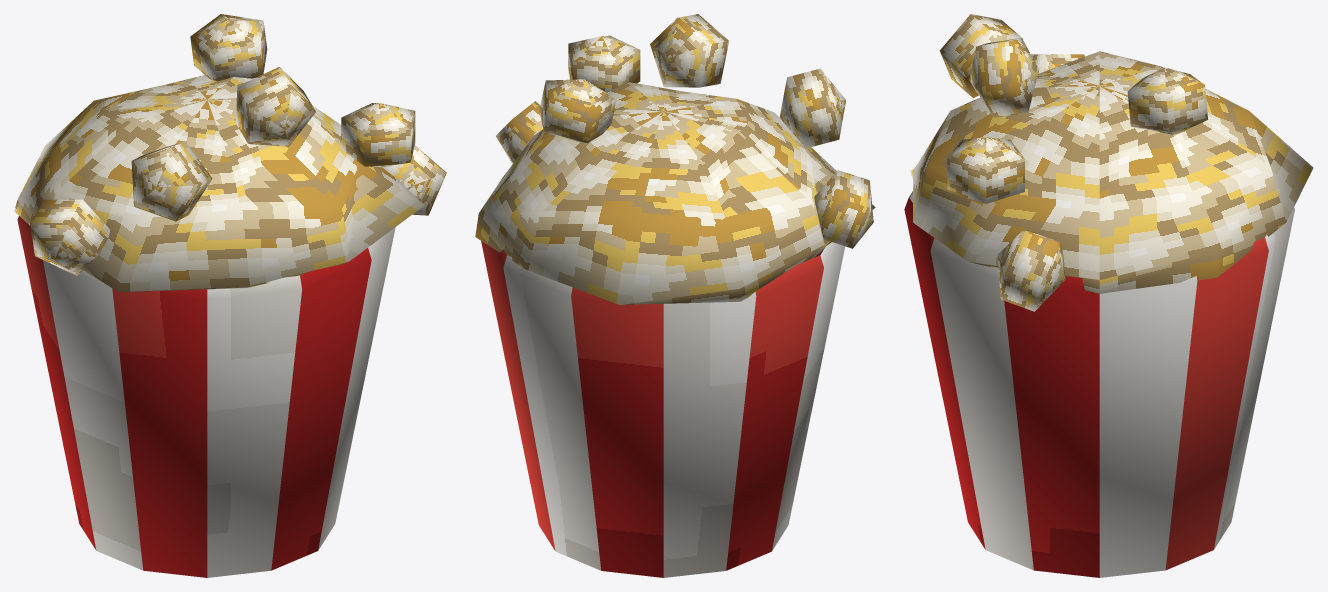
Rendered from food3-popcornBucket.glb.
3 views of the same model, side by side, from view 1: azimuth 30°, elevation 25°; view 2: azimuth 150°, elevation 25°; view 3: azimuth 270°, elevation 25° (orthographic). The views are drawn at different scales.
Parts seen in each view (by area): view 1: food3.popcornBucket; view 2: food3.popcornBucket; view 3: food3.popcornBucket.
Boxes of the visible parts, left/top/right/bottom form: food3.popcornBucket: left=14, top=14, right=446, bottom=577; food3.popcornBucket: left=475, top=14, right=875, bottom=577; food3.popcornBucket: left=904, top=14, right=1313, bottom=577.
Size of the model in its own units: 1.53 by 1.78 by 1.33.
Materials: 4 (4 with a texture image).
